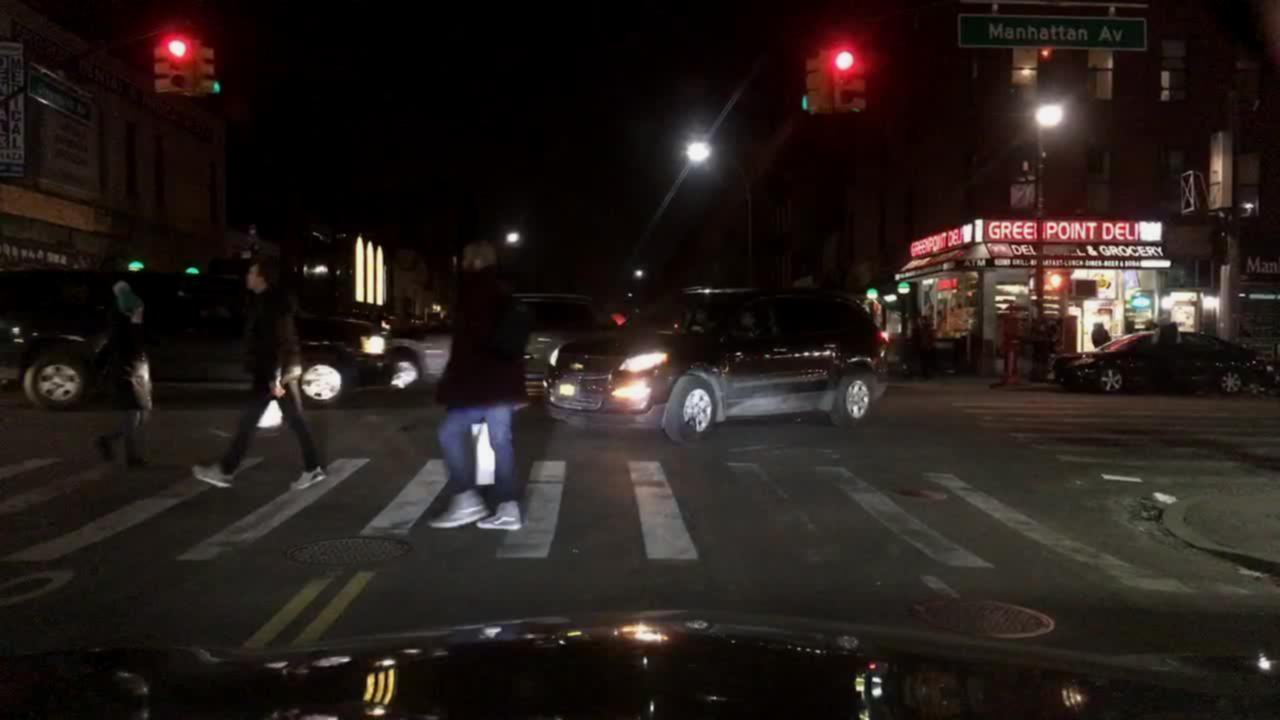chevrolet: (567, 360, 585, 374)
